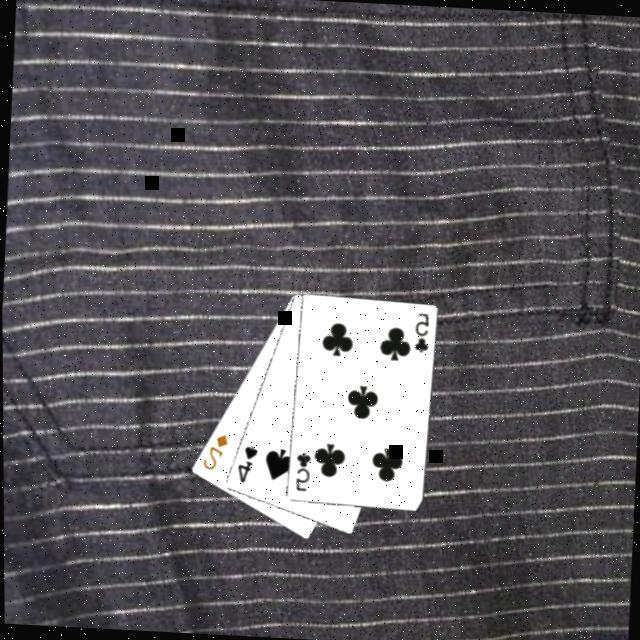2D: (200, 431, 232, 475)
4S: (234, 443, 261, 488)
5C: (293, 450, 315, 496), (412, 311, 434, 357)
